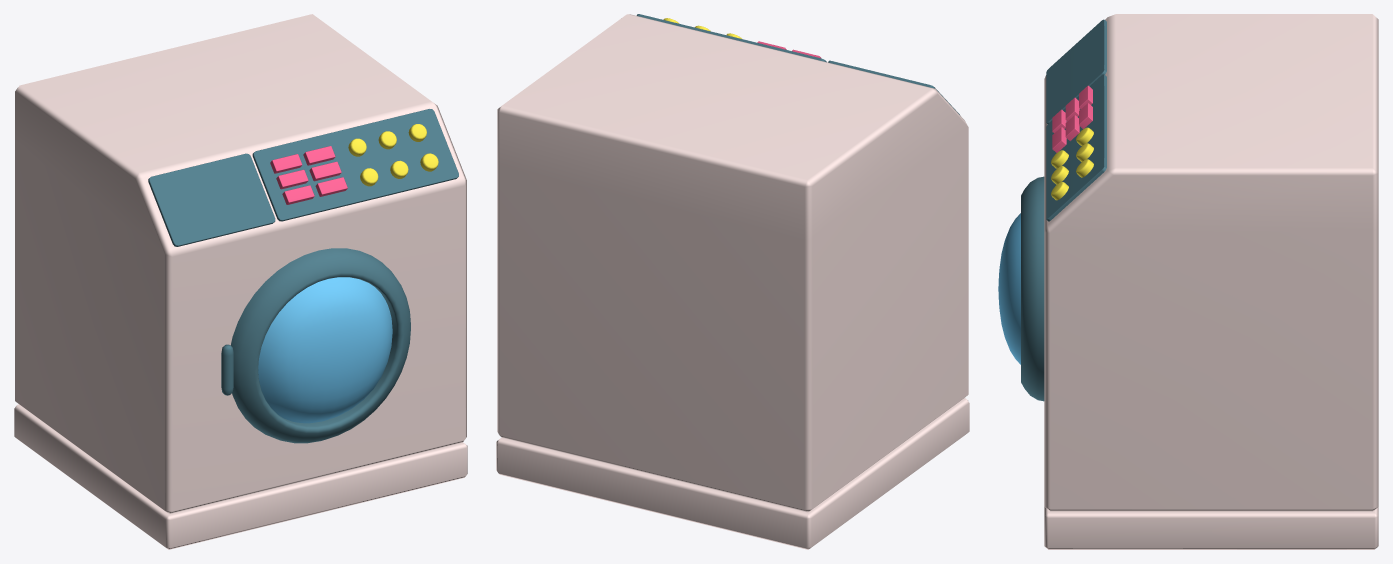
The model's file is Public_13_Washng_machine_1.glb.
The picture shows the model from 3 angles, left to right: view 1: azimuth 30°, elevation 25°; view 2: azimuth 150°, elevation 25°; view 3: azimuth 270°, elevation 25°; orthographic projection. The views are drawn at different scales.
Visible parts, largest first — view 1: Public_13_Washng_machine_1; view 2: Public_13_Washng_machine_1; view 3: Public_13_Washng_machine_1.
Part boxes in pixels (left/top/right/bottom): Public_13_Washng_machine_1: left=14, top=14, right=467, bottom=549; Public_13_Washng_machine_1: left=496, top=14, right=969, bottom=549; Public_13_Washng_machine_1: left=998, top=14, right=1378, bottom=549.
Bounding box in the file's own units: 1.62 × 1.82 × 1.64.
Materials: 1 (1 with a texture image).
